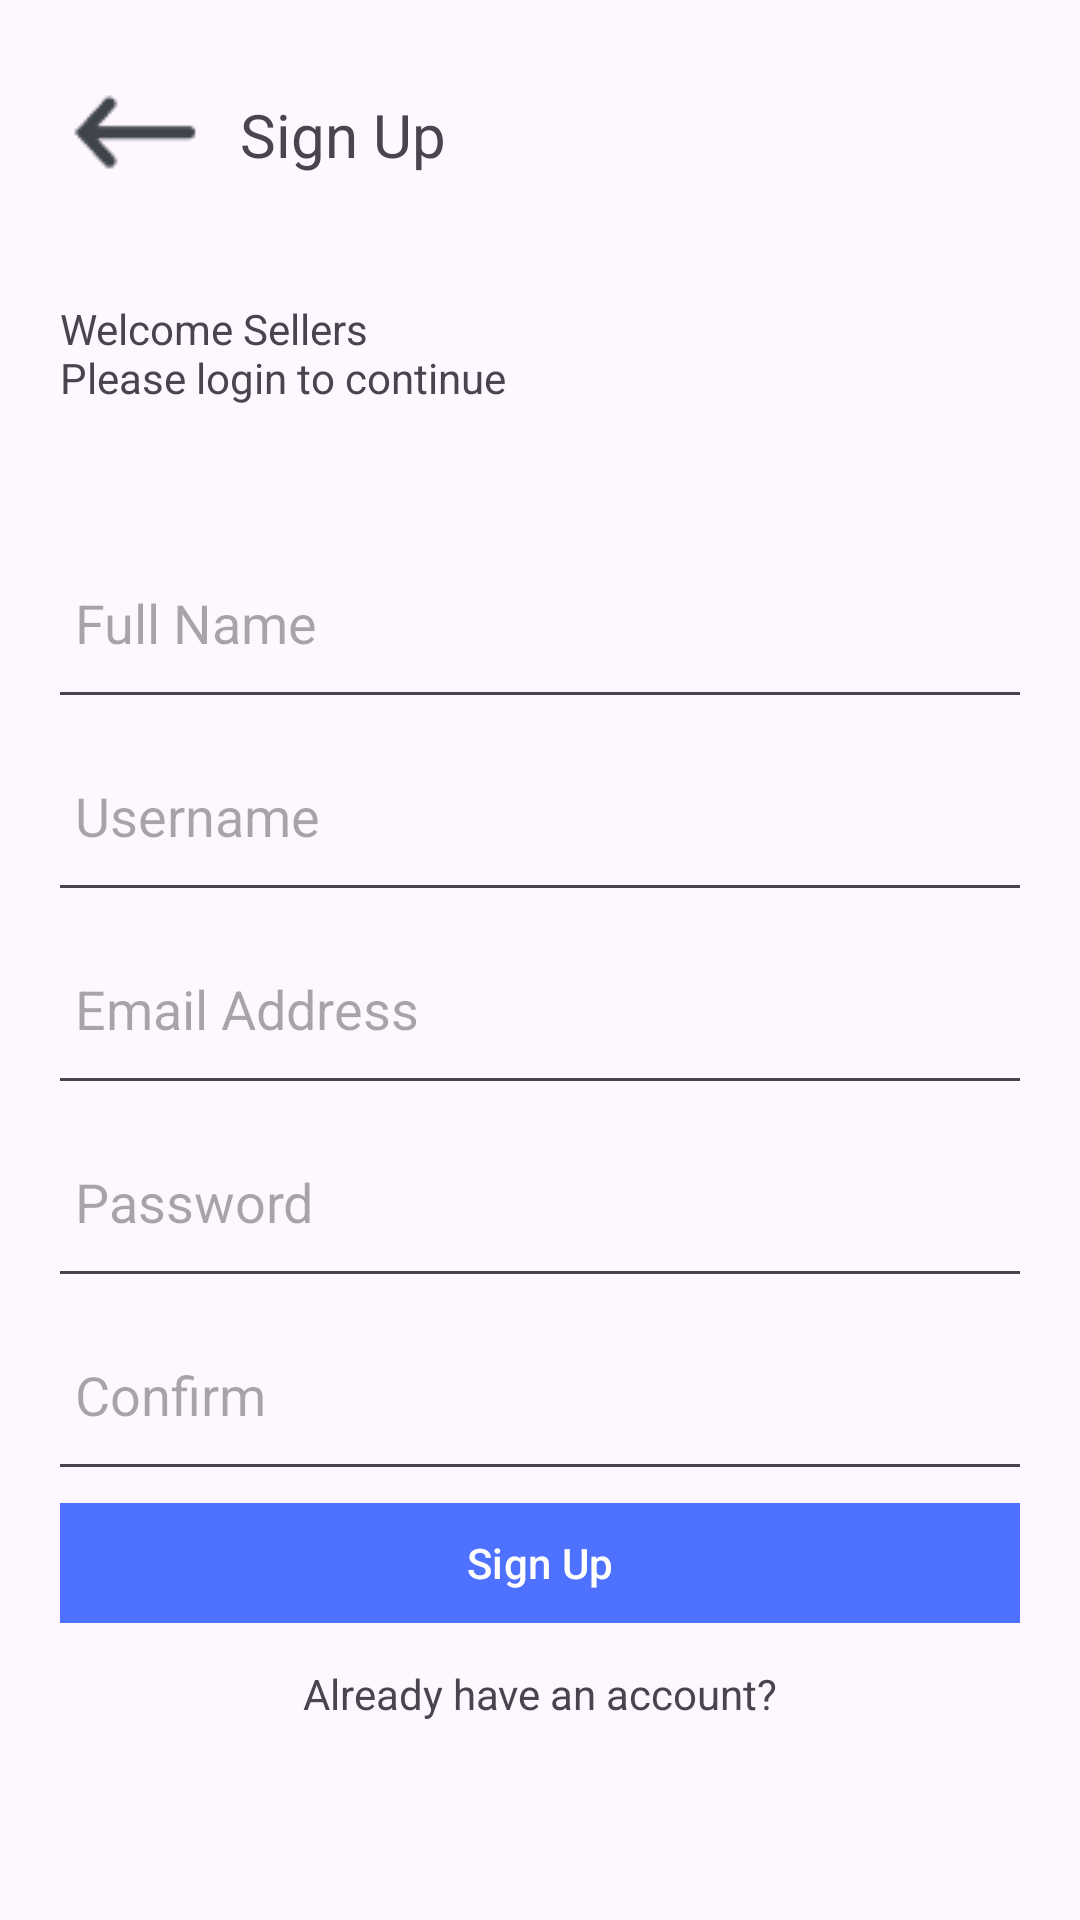

Where icons sit on this 1080px×1920px app screen, as (x1=x1, y1=y1, x2=x2, y2=y2):
arrow left: (x1=74, y1=95, x2=196, y2=169)
